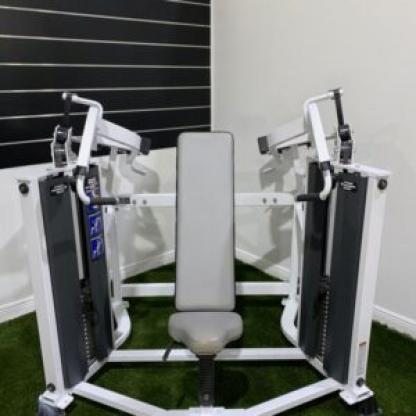shoulder press machine: (12, 53, 405, 416)
